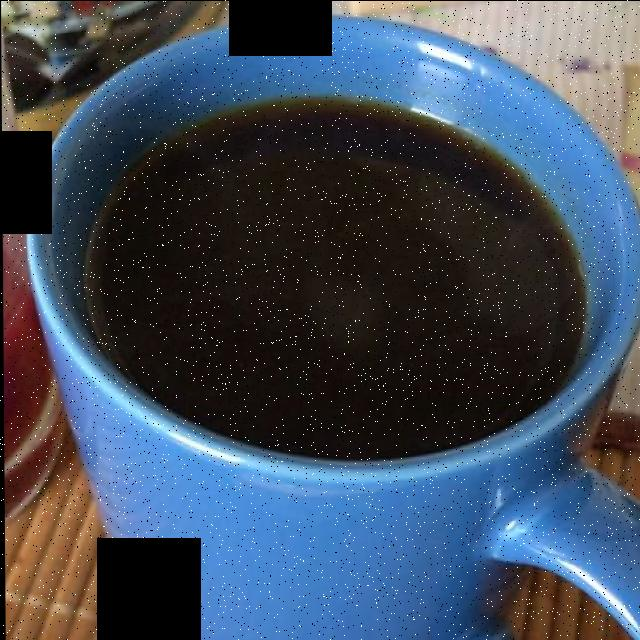coffee-with-caffeine: (91, 99, 576, 446)
